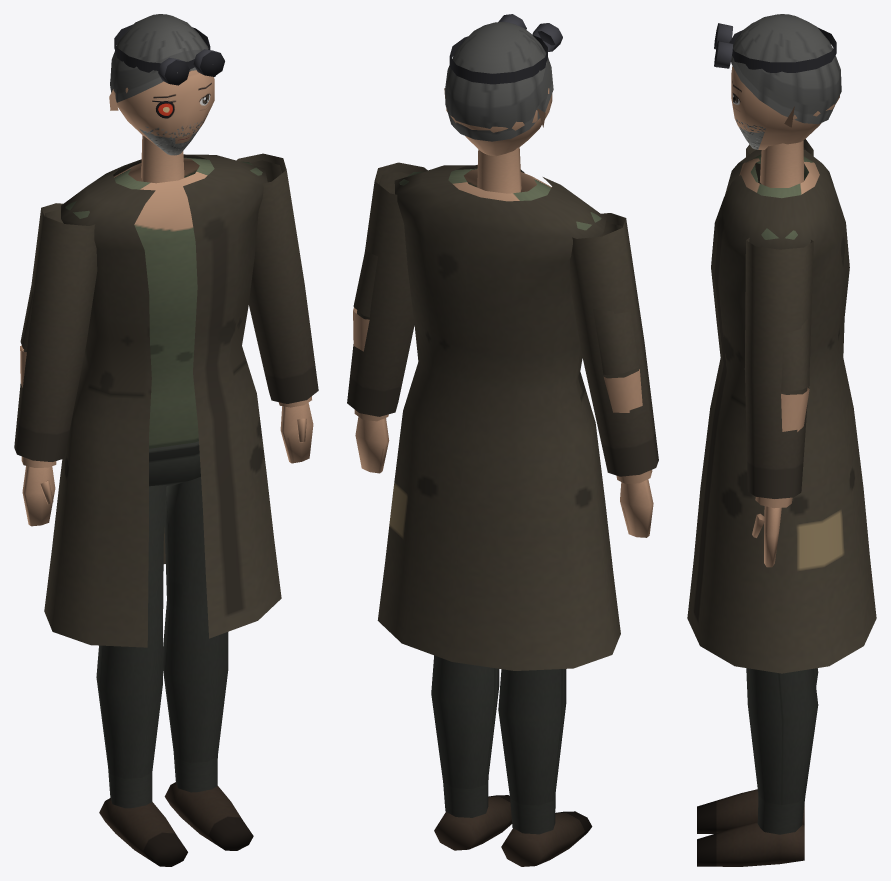
File: NPC_Gen.fbx
3 renders of one model, left to right at view 1: azimuth 30°, elevation 25°; view 2: azimuth 150°, elevation 25°; view 3: azimuth 270°, elevation 25°, orthographic. The views are drawn at different scales.
Parts seen in each view (by area): view 1: Gen_Body, Gen_Head; view 2: Gen_Body, Gen_Head; view 3: Gen_Body, Gen_Head.
Part boxes in pixels (left/top/right/bottom): Gen_Body: left=14, top=135, right=318, bottom=866; Gen_Head: left=109, top=14, right=224, bottom=155; Gen_Body: left=347, top=147, right=658, bottom=866; Gen_Head: left=444, top=14, right=562, bottom=156; Gen_Body: left=687, top=139, right=876, bottom=866; Gen_Head: left=714, top=14, right=841, bottom=149.
Bounding box in the file's own units: 0.6714 × 1.74 × 0.3593.
